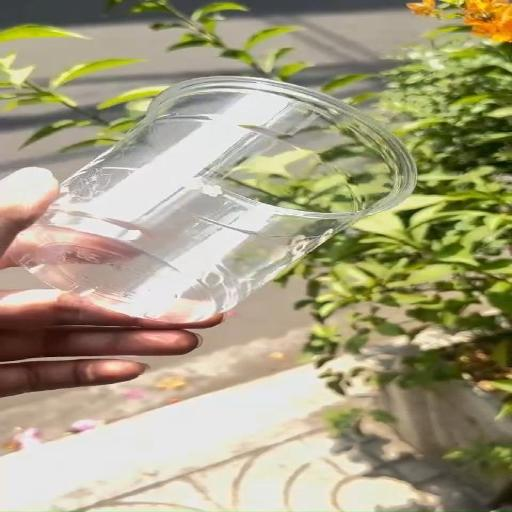ly_giay: (16, 76, 416, 321)
